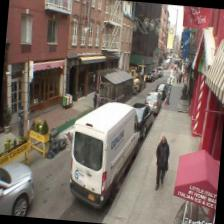person: (152, 136, 170, 190)
